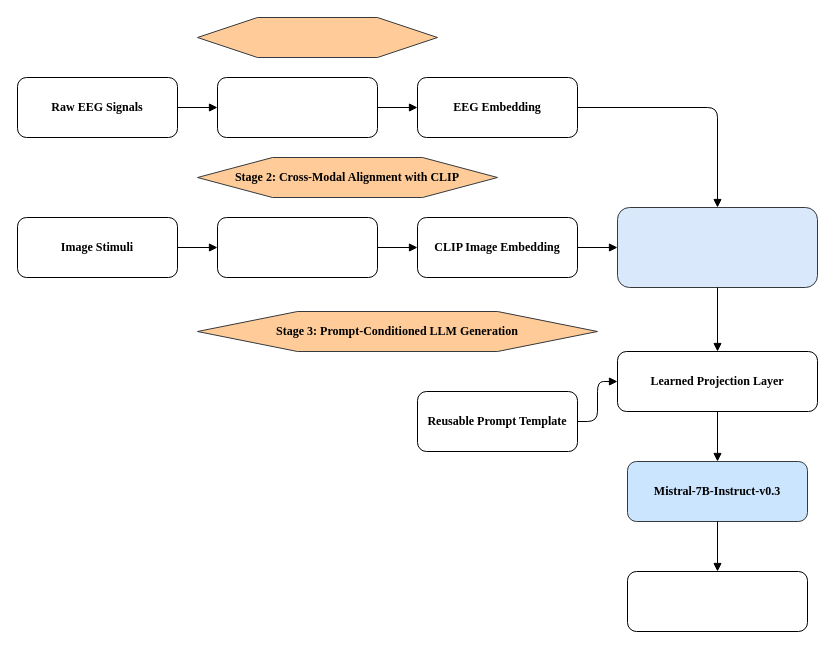
This 835x649 diagram has some shape labels left out. Here are the shapes that lost their labels. From the top down, the centre of each, then its label:
At (x=317, y=37): "Stage 1: EEG Encoder Training".
At (x=297, y=107): "Neural Network Encoder (ChannelNet)".
At (x=297, y=247): "CLIP Encoder".
At (x=717, y=247): "Cross-Modal Alignment".
At (x=717, y=601): "Generated Text Output".
